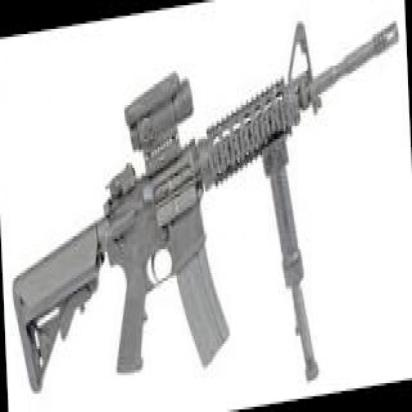Gun: (20, 20, 396, 394)
